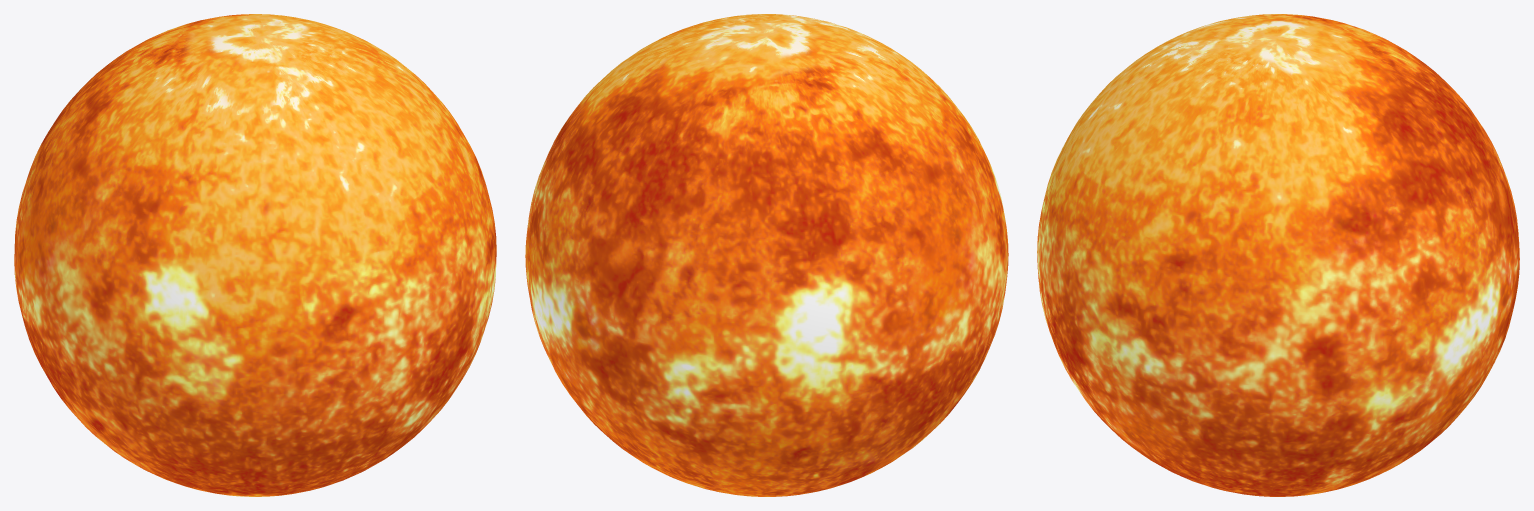
The model's file is Sun.glb.
3 renders of one model, left to right at view 1: azimuth 30°, elevation 25°; view 2: azimuth 150°, elevation 25°; view 3: azimuth 270°, elevation 25°, orthographic.
Visible parts, largest first — view 1: sun1; view 2: sun1; view 3: sun1.
Part boxes in pixels (x1,y1,x2,y2): sun1: [14, 14, 496, 496]; sun1: [525, 14, 1008, 496]; sun1: [1037, 14, 1519, 496].
Bounding box in the file's own units: 0.0535 × 0.0535 × 0.0535.
Materials: 1 (1 with a texture image).
